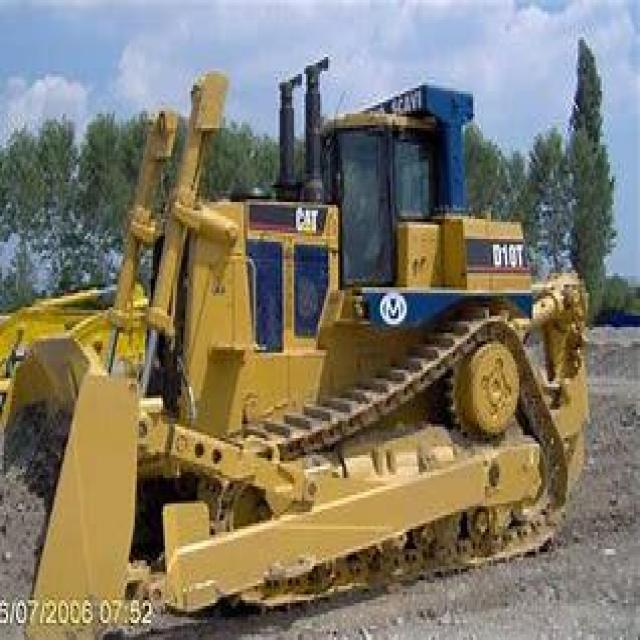Bulldozer: (2, 54, 608, 632)
